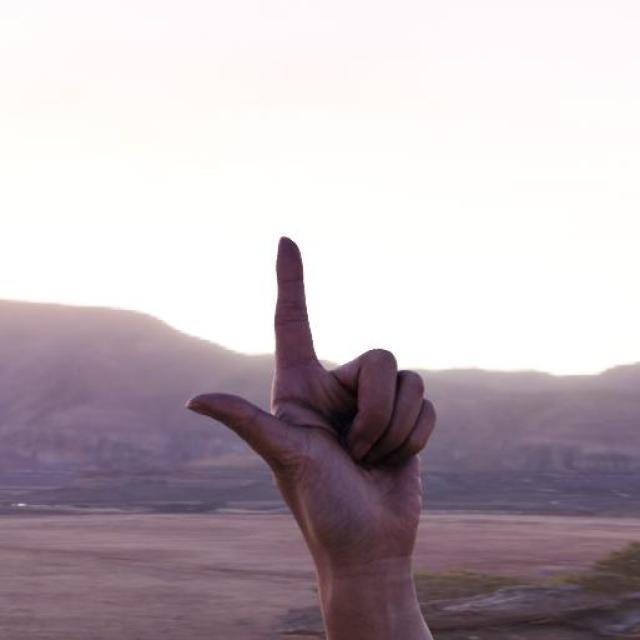L: (180, 231, 440, 573)
